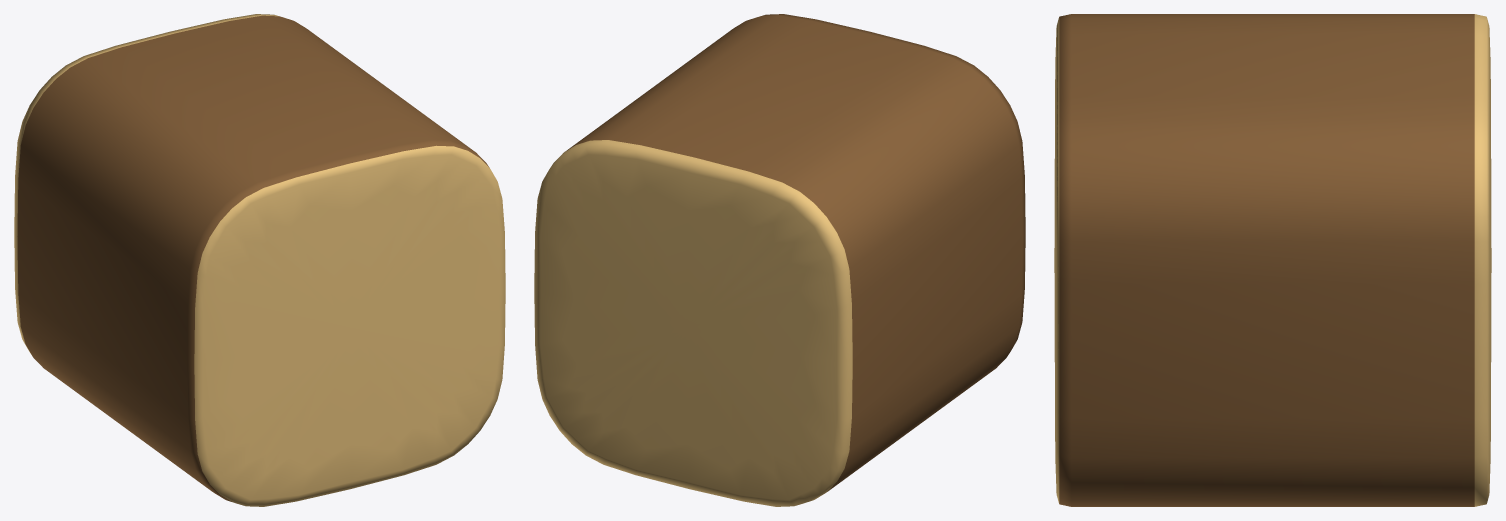
The picture shows the model from 3 angles, left to right: view 1: azimuth 30°, elevation 25°; view 2: azimuth 150°, elevation 25°; view 3: azimuth 270°, elevation 25°; orthographic projection. The views are drawn at different scales.
Parts seen in each view (by area): view 1: Sm_Cube; view 2: Sm_Cube; view 3: Sm_Cube.
Part boxes in pixels (left/top/right/bottom): Sm_Cube: left=14, top=14, right=505, bottom=506; Sm_Cube: left=534, top=14, right=1025, bottom=506; Sm_Cube: left=1054, top=14, right=1491, bottom=506.
Size of the model in its own units: 98.85 by 98.85 by 99.95.
